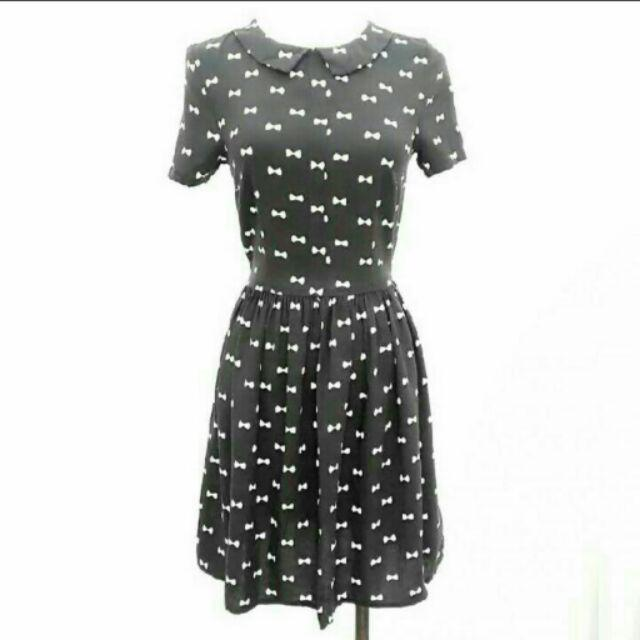Dresses: (168, 17, 468, 627)
